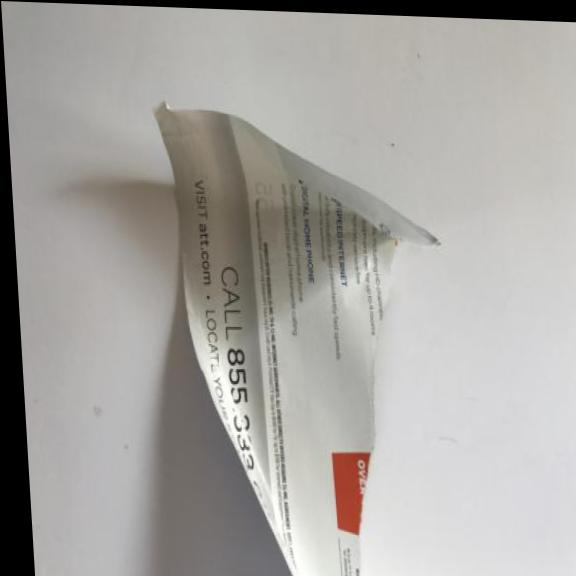Kertas: (138, 95, 466, 576)
